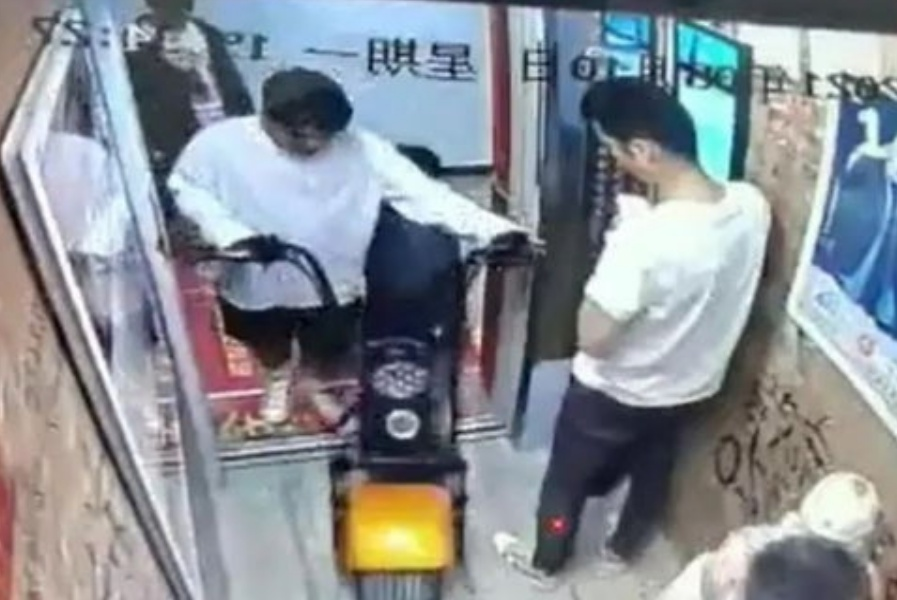ebike: (200, 237, 544, 600)
person: (522, 56, 769, 569), (161, 70, 514, 426)
